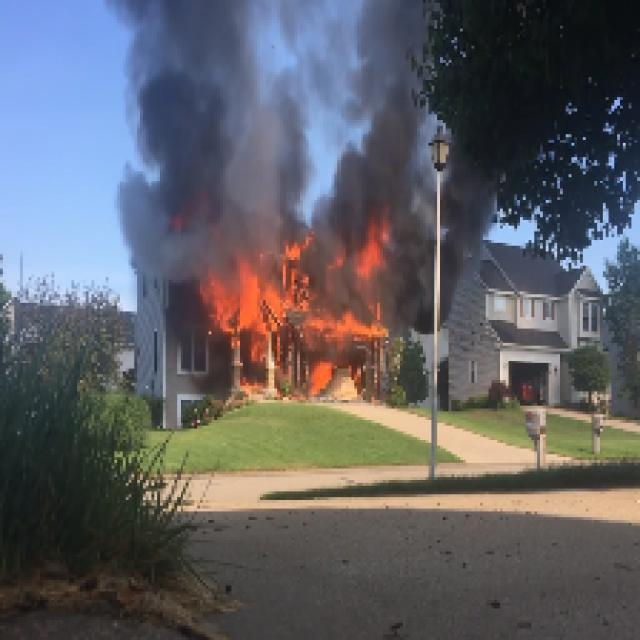Fire: (202, 245, 318, 338)
Smoke: (122, 3, 312, 240), (317, 3, 434, 220), (382, 232, 458, 328)
